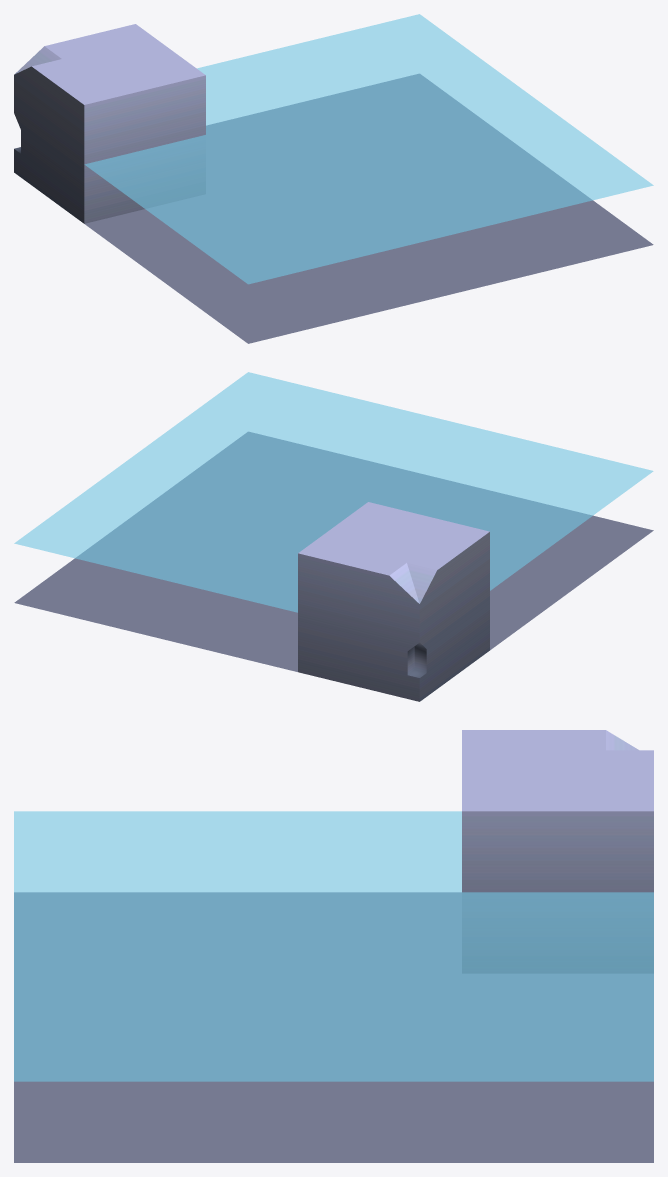
The model's file is fountain-corner-inner-square.glb.
3 renders of one model, top to bottom at view 1: azimuth 30°, elevation 25°; view 2: azimuth 150°, elevation 25°; view 3: azimuth 270°, elevation 25°, orthographic. The views are drawn at different scales.
Parts seen in each view (by area): view 1: fountain-corner-inner-square, (_ignore); view 2: fountain-corner-inner-square, (_ignore); view 3: fountain-corner-inner-square, (_ignore).
Part boxes in pixels (<box>): fountain-corner-inner-square: <box>14,24,653,343</box>; (_ignore): <box>84,14,653,284</box>; fountain-corner-inner-square: <box>14,432,653,701</box>; (_ignore): <box>14,372,653,612</box>; fountain-corner-inner-square: <box>14,730,653,1162</box>; (_ignore): <box>14,811,653,1081</box>.
Size of the model in its own units: 1 by 0.28 by 1.
Materials: 2 (1 with a texture image).
